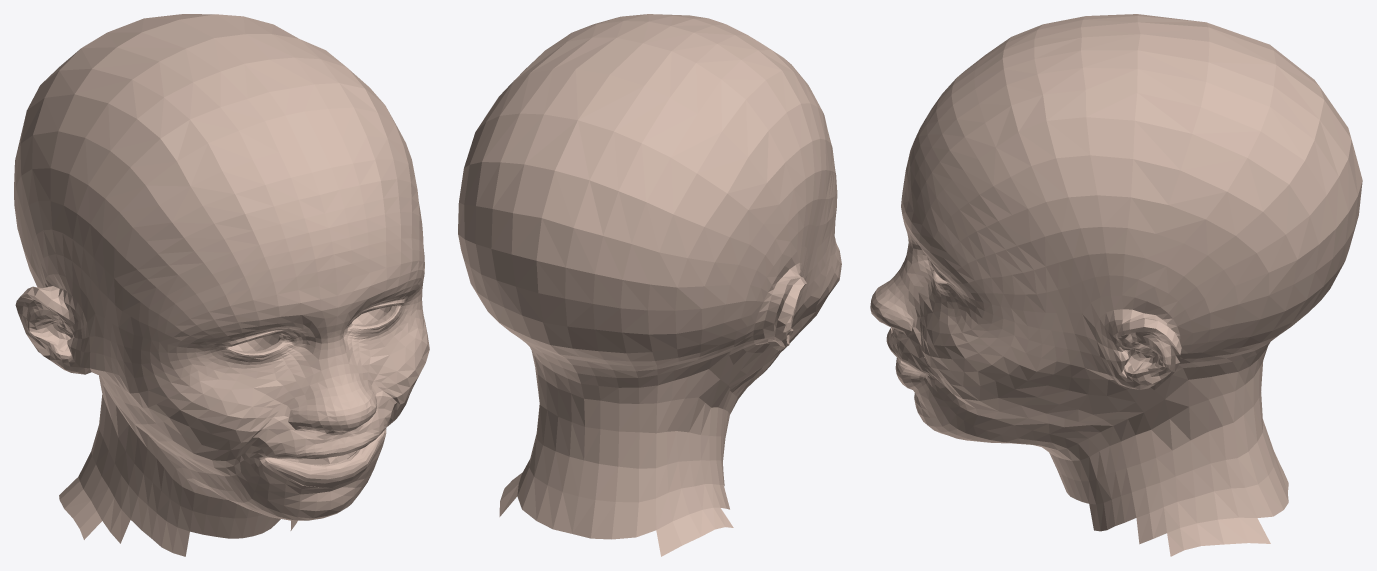
Rendered from karma_face_MH_smile_X.glb.
3 renders of one model, left to right at view 1: azimuth 30°, elevation 25°; view 2: azimuth 150°, elevation 25°; view 3: azimuth 270°, elevation 25°, orthographic. The views are drawn at different scales.
Visible parts, largest first — view 1: head; view 2: head; view 3: head.
Part boxes in pixels (box(x1,y1,x2,y2)): head: box(14, 14, 429, 556); head: box(458, 14, 841, 556); head: box(870, 14, 1362, 556).
Size of the model in its own units: 3.03 by 3.91 by 3.7.
